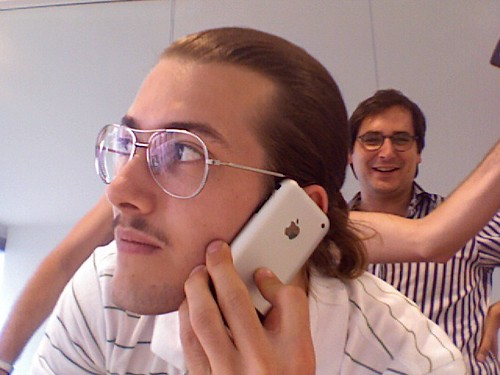phone: (214, 177, 329, 314)
talk: (96, 102, 348, 375)
